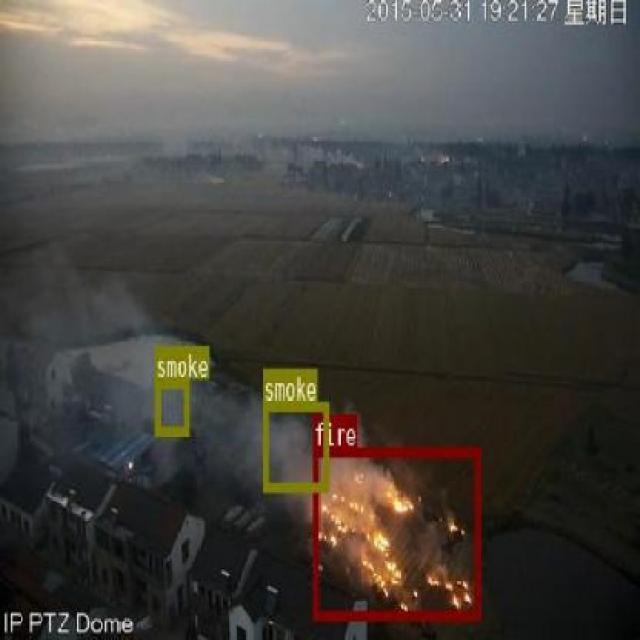Fire: (312, 446, 479, 620)
Smoke: (15, 248, 156, 378), (262, 401, 328, 490), (203, 380, 257, 475), (154, 378, 188, 434)
